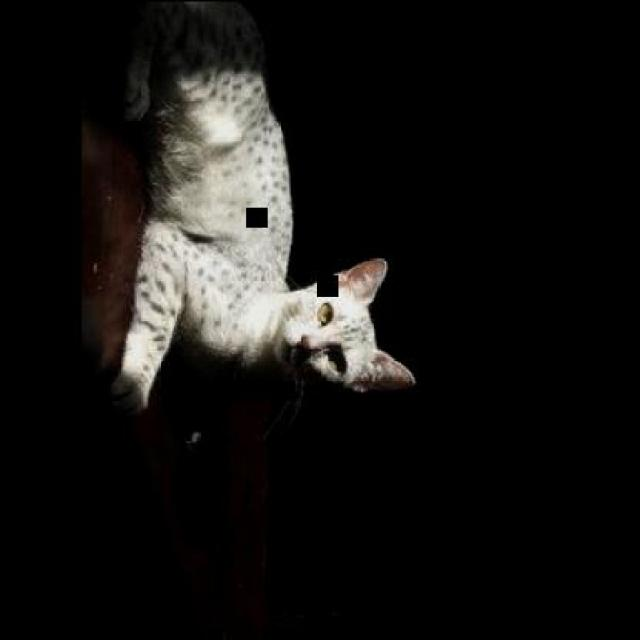unauthorized: (106, 0, 417, 415)
